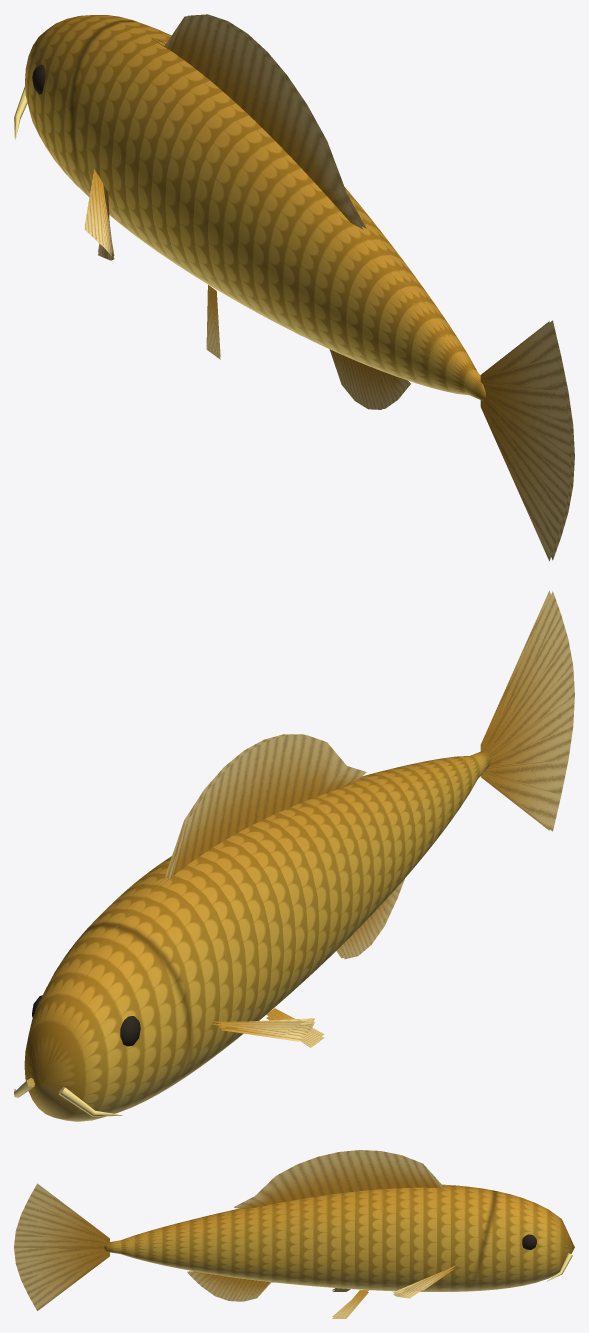
File: HO_Fish_Koi_Gold.fbx
3 renders of one model, top to bottom at view 1: azimuth 30°, elevation 25°; view 2: azimuth 150°, elevation 25°; view 3: azimuth 270°, elevation 25°, orthographic. The views are drawn at different scales.
Visible parts, largest first — view 1: HO_Fish_Koi_Gold__Fish_Koi_Gold, HO_Fish_Koi_Gold__Fish_Fin_Gold; view 2: HO_Fish_Koi_Gold__Fish_Koi_Gold, HO_Fish_Koi_Gold__Fish_Fin_Gold; view 3: HO_Fish_Koi_Gold__Fish_Koi_Gold, HO_Fish_Koi_Gold__Fish_Fin_Gold.
Boxes of the visible parts, bbox=[...] form: HO_Fish_Koi_Gold__Fish_Koi_Gold: bbox=[14, 15, 485, 400]; HO_Fish_Koi_Gold__Fish_Fin_Gold: bbox=[84, 14, 574, 561]; HO_Fish_Koi_Gold__Fish_Koi_Gold: bbox=[14, 750, 490, 1121]; HO_Fish_Koi_Gold__Fish_Fin_Gold: bbox=[154, 590, 574, 1047]; HO_Fish_Koi_Gold__Fish_Koi_Gold: bbox=[104, 1184, 574, 1291]; HO_Fish_Koi_Gold__Fish_Fin_Gold: bbox=[14, 1150, 456, 1318].
Bounding box in the file's own units: 0.4729 × 0.6819 × 2.16.
